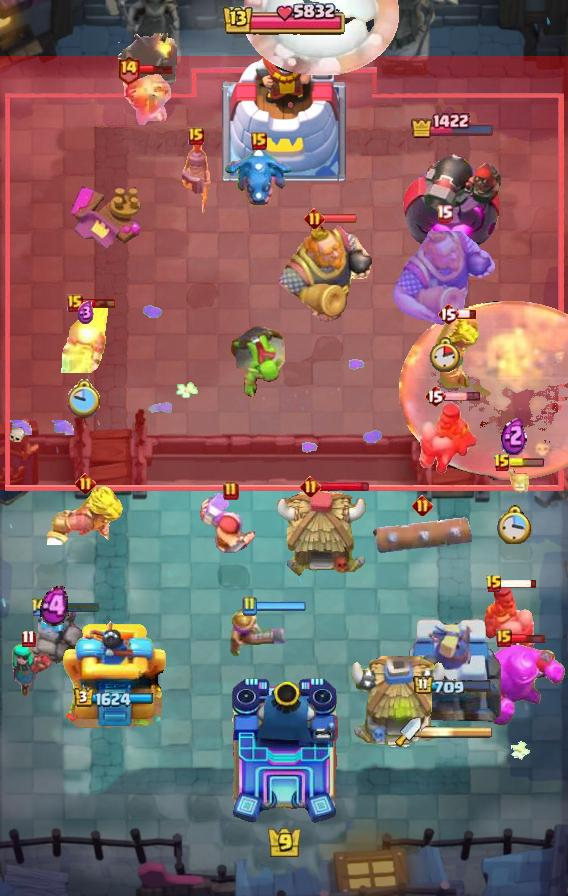baby-dragon: (118, 33, 177, 96)
bar: (405, 611, 501, 731)
bar-level: (228, 321, 288, 397)
bomb-tower: (229, 608, 287, 658)
bowler: (59, 301, 111, 373)
clock: (221, 0, 347, 40)
clone: (467, 643, 567, 727)
electro-spirit: (39, 585, 68, 626), (501, 415, 527, 455), (77, 301, 94, 325)
elite-barbarian: (418, 401, 478, 475), (480, 580, 540, 654)
elixir: (497, 504, 532, 543), (68, 378, 102, 417), (429, 336, 459, 371)
emote: (319, 480, 370, 493), (48, 601, 101, 613), (255, 601, 306, 611), (510, 632, 545, 645), (138, 64, 174, 76), (81, 297, 117, 309), (501, 579, 539, 590), (443, 390, 480, 401), (322, 213, 358, 224), (509, 458, 545, 468), (457, 308, 477, 320)
giant-skeleton: (272, 222, 380, 326), (391, 225, 497, 327)
goblin-hut: (425, 313, 497, 401), (47, 483, 124, 545)
graveyard: (223, 145, 295, 207)
ice-spirit-evolution: (498, 463, 530, 495)
king-tower: (222, 31, 346, 181), (228, 676, 340, 826)
king-tower-bar: (421, 725, 493, 739)
mighty-miner: (199, 491, 263, 557)
minion: (372, 517, 472, 553)
phoenix-egg: (400, 300, 568, 480)
prince: (348, 656, 450, 752), (276, 489, 370, 579)
princess: (177, 135, 215, 223)
queen-tower: (60, 617, 168, 731)
selected: (410, 112, 496, 140), (413, 675, 493, 697), (74, 687, 154, 709)
skeleton-dragon: (119, 72, 173, 126)
text: (115, 55, 140, 85), (437, 302, 459, 326), (424, 384, 446, 408), (412, 495, 433, 517), (304, 208, 325, 229), (75, 474, 96, 495), (300, 476, 321, 497), (30, 595, 50, 616), (493, 453, 511, 473), (485, 574, 503, 594), (435, 204, 453, 223), (223, 481, 239, 501), (241, 596, 257, 616), (188, 127, 204, 145), (251, 132, 267, 150), (67, 294, 83, 312), (496, 629, 512, 647), (21, 629, 36, 648)
tower-bar: (403, 138, 503, 256)
valkyrie-evolution: (21, 608, 87, 670)
wall-breaker: (244, 1, 399, 76)
witch: (2, 642, 54, 700)
